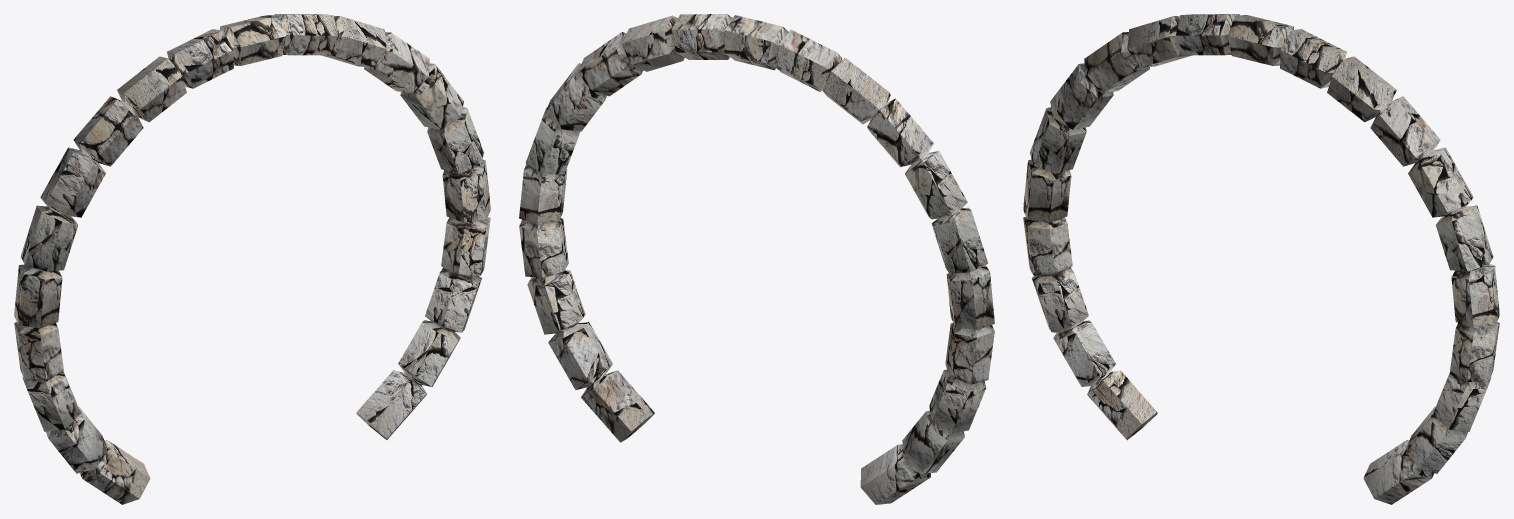
Rendered from Portal.FBX.
The picture shows the model from 3 angles, left to right: view 1: azimuth 30°, elevation 25°; view 2: azimuth 150°, elevation 25°; view 3: azimuth 330°, elevation 25°; orthographic projection.
Parts seen in each view (by area): view 1: Arc001; view 2: Arc001; view 3: Arc001.
Boxes of the visible parts, box(x1,y1,x2,y2) form: Arc001: box(14, 14, 490, 504); Arc001: box(519, 14, 994, 504); Arc001: box(1023, 14, 1499, 504).
Bounding box in the file's own units: 119 × 108 × 9.59.
Materials: 1 (1 with a texture image).
